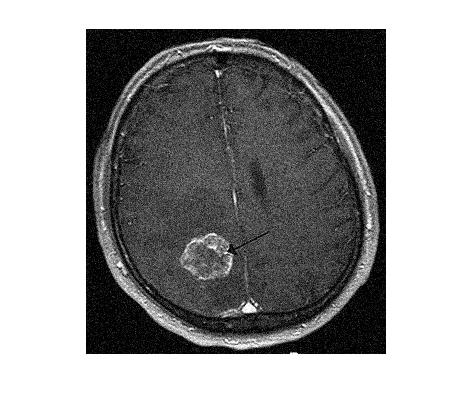Brain_Cancer: (168, 229, 245, 286)
